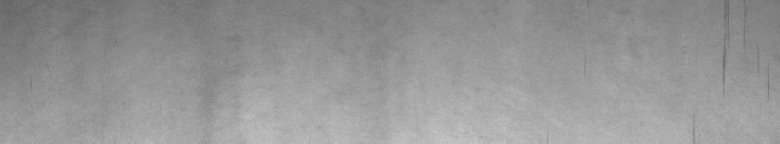ka: (693, 4, 769, 135)
